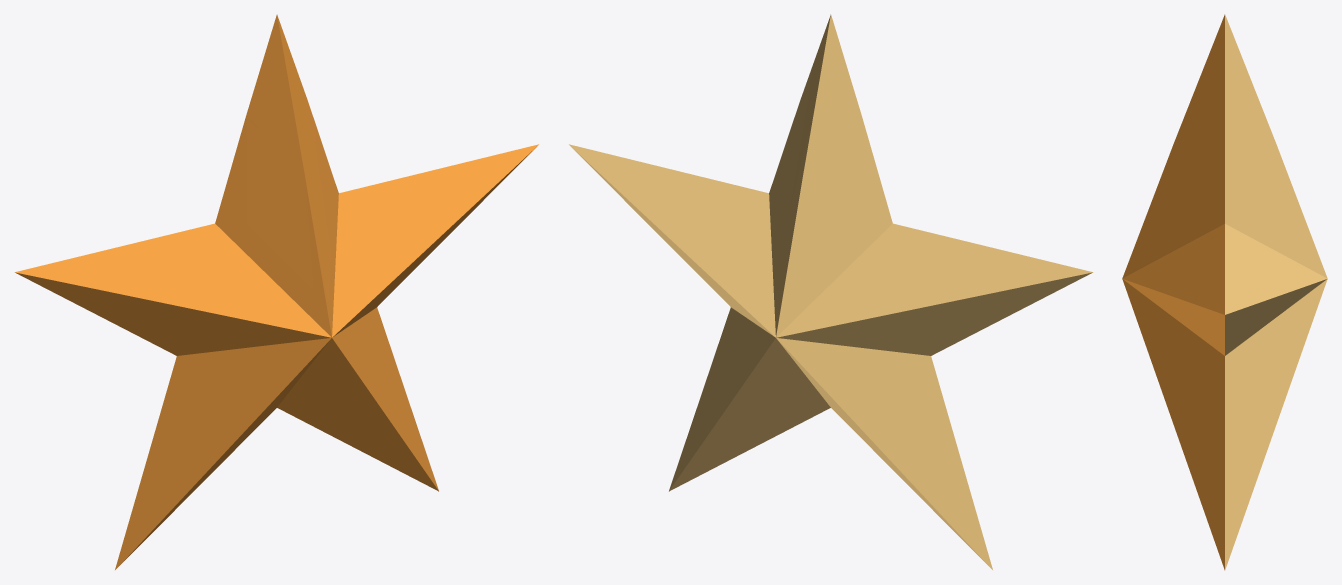
Rendered from star.fbx.
3 renders of one model, left to right at view 1: azimuth 30°, elevation 25°; view 2: azimuth 150°, elevation 25°; view 3: azimuth 270°, elevation 25°, orthographic. The views are drawn at different scales.
Visible parts, largest first — view 1: star; view 2: star; view 3: star.
Boxes of the visible parts, x1,y1,x2,y2 form: star: [15, 14, 538, 569]; star: [569, 14, 1092, 569]; star: [1122, 14, 1327, 570].
Size of the model in its own units: 303 by 285 by 110.
